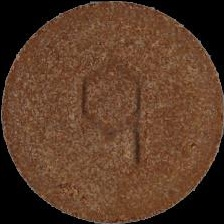0555-9028: (0, 0, 224, 224)
